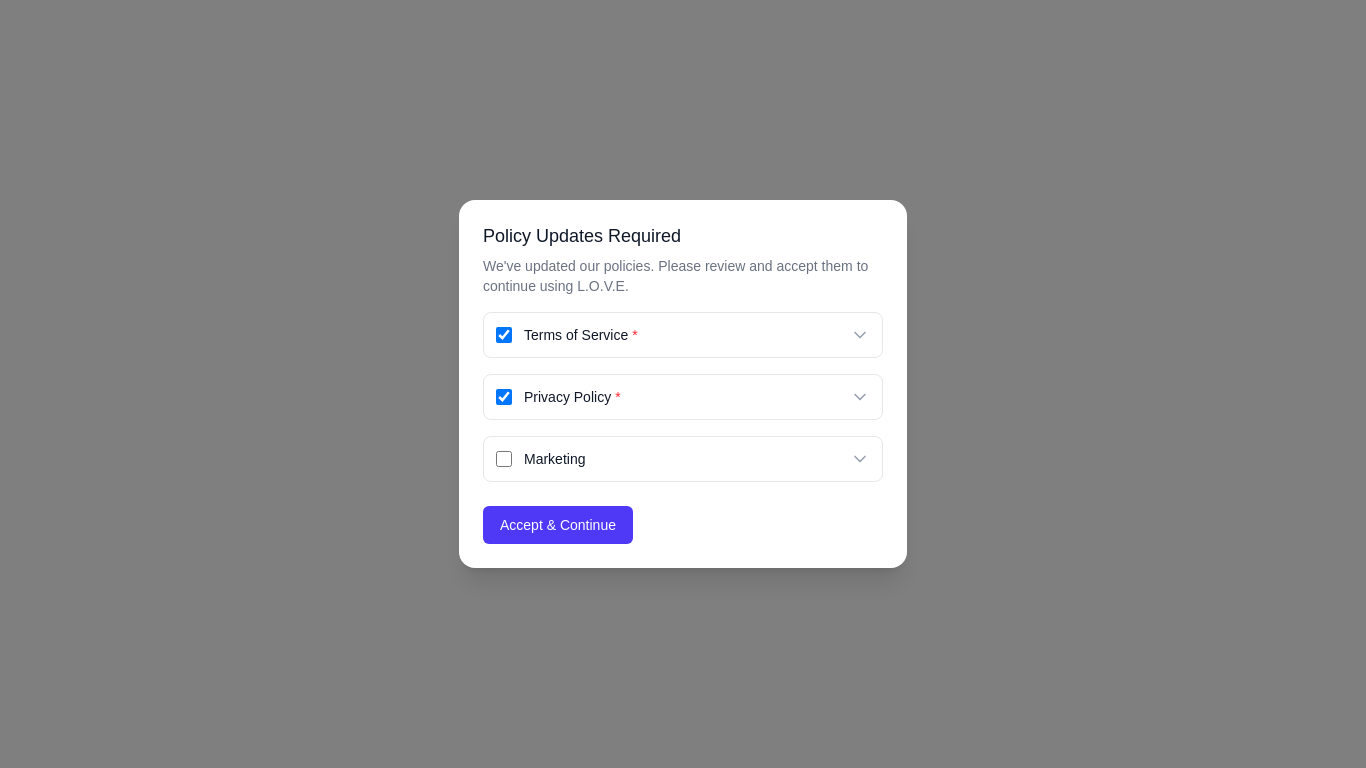
ConsentGate › expands policy details and rotates chevron
Check: the heading "Policy Updates Required" is shown, box [483, 226, 681, 246]
Check: the text "Terms desc" is not shown
Click to open
Click the button without text in the row of "Terms of Service".
click(860, 335)  # box [850, 325, 870, 345]
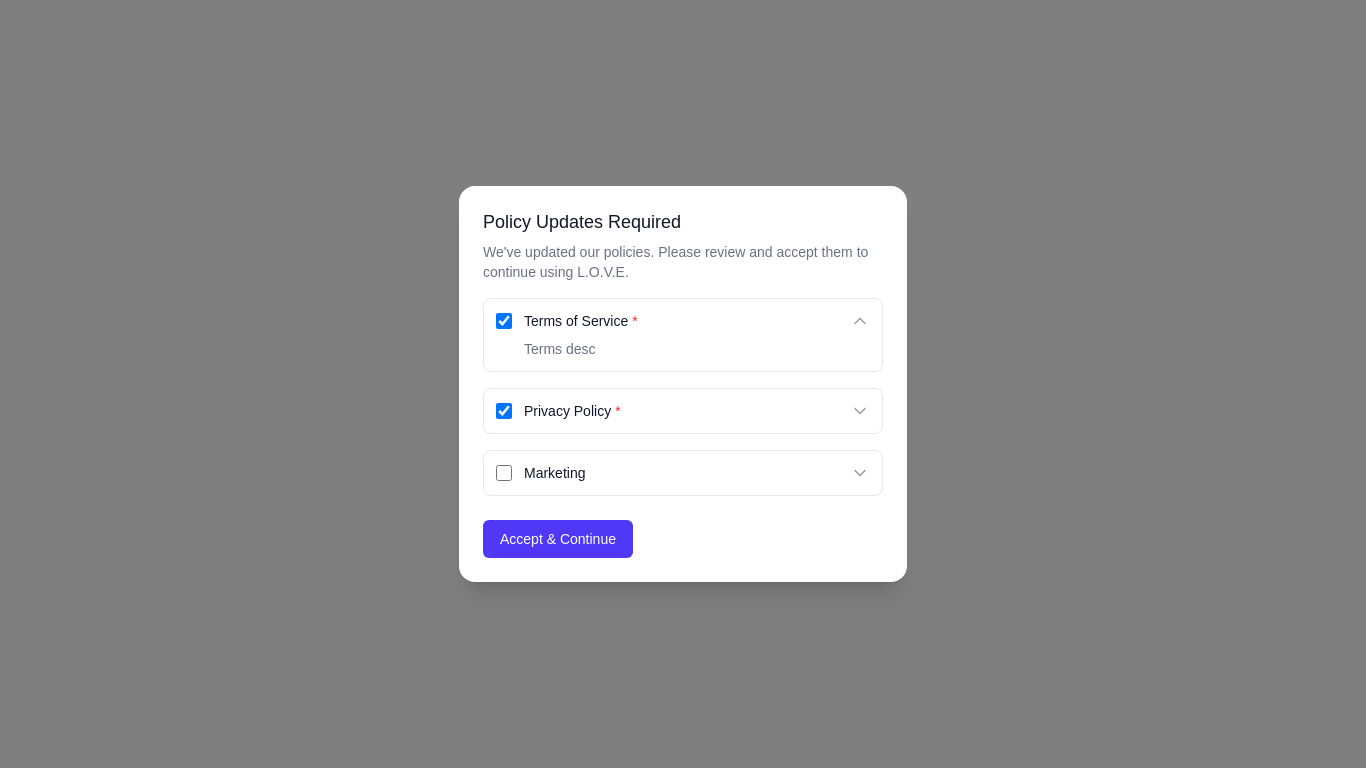
Check: the text "Terms desc" is shown, box [524, 341, 596, 357]
